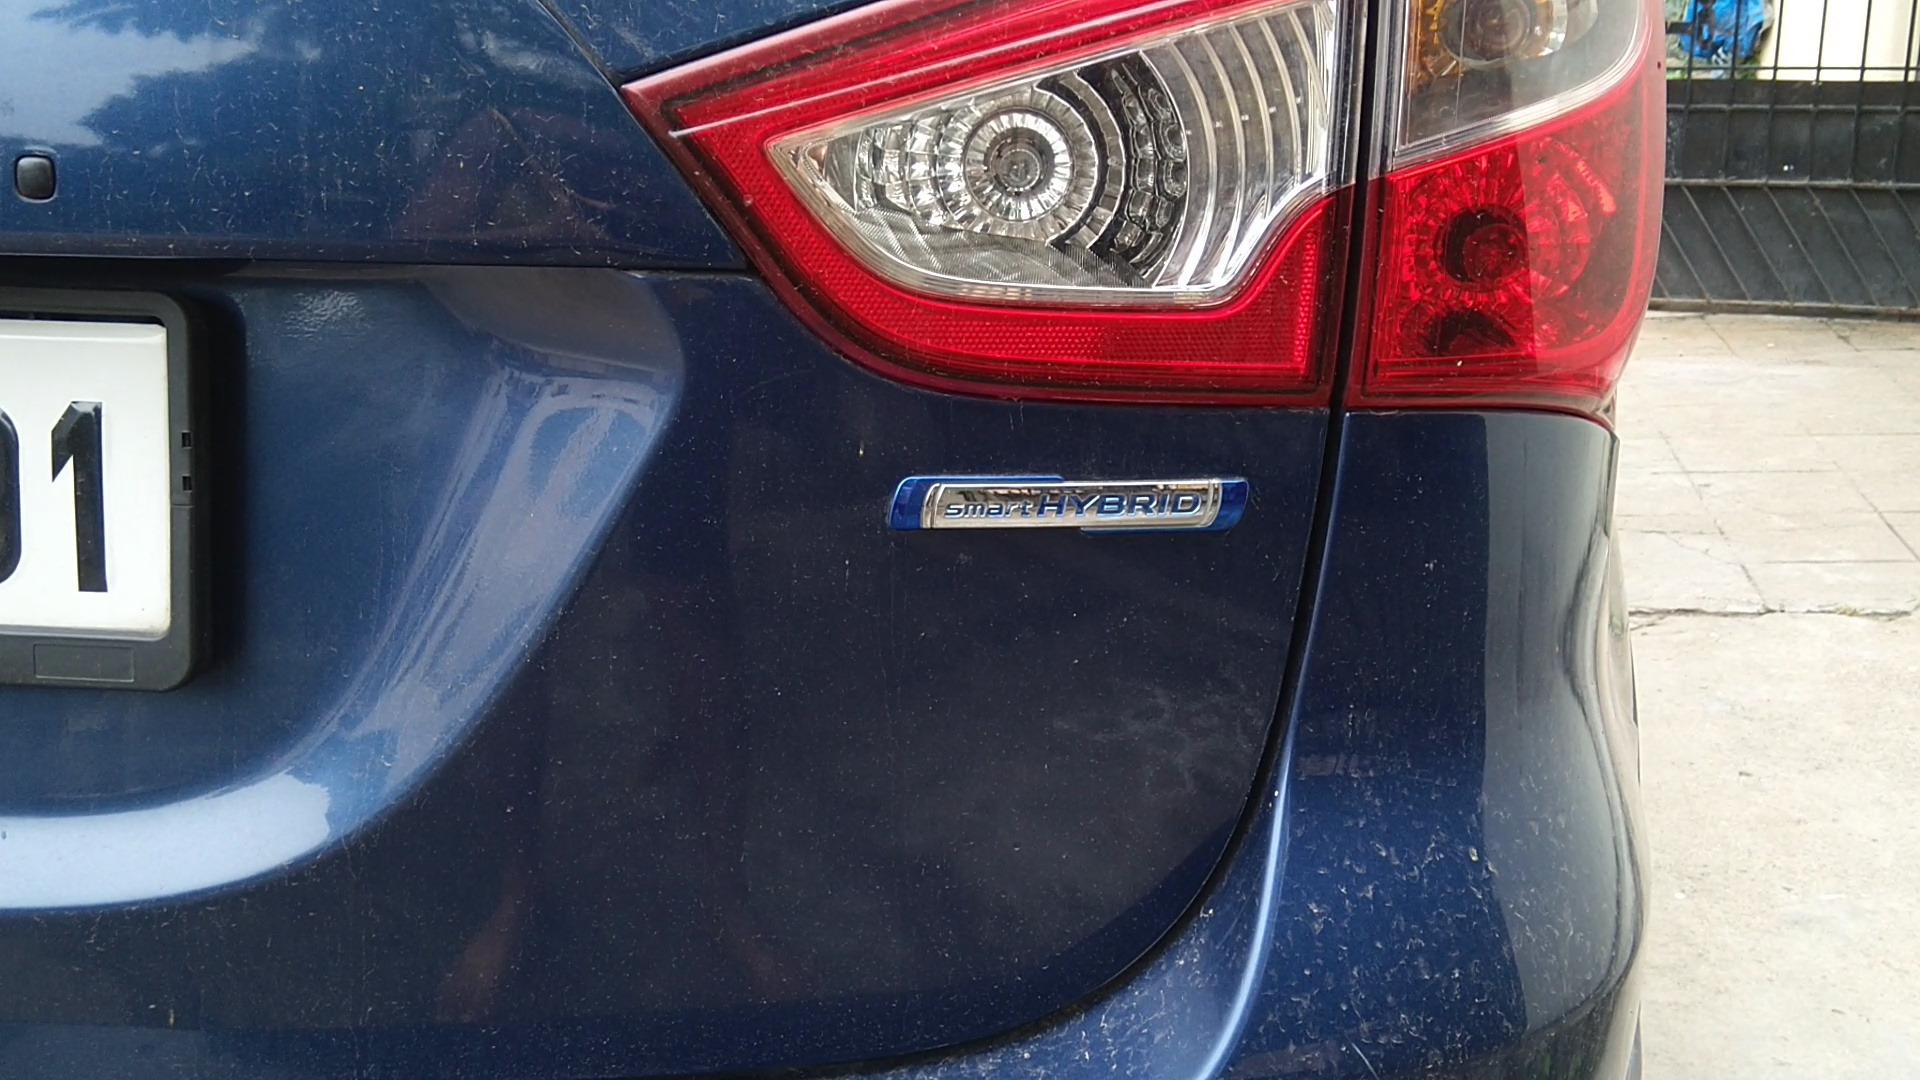shvs: (849, 450, 1280, 578)
